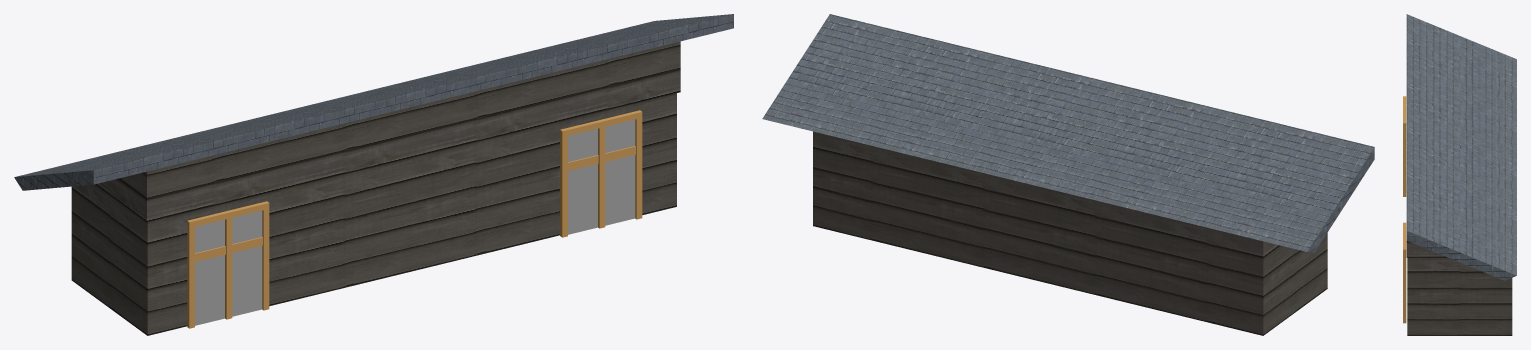
Rendered from Maintenance.glb.
3 views of the same model, side by side, from view 1: azimuth 30°, elevation 25°; view 2: azimuth 150°, elevation 25°; view 3: azimuth 270°, elevation 25° (orthographic). The views are drawn at different scales.
Visible parts, largest first — view 1: mergedBlocks(Clone); view 2: mergedBlocks(Clone); view 3: mergedBlocks(Clone).
Boxes of the visible parts, x1,y1,x2,y2 form: mergedBlocks(Clone): [14, 14, 733, 335]; mergedBlocks(Clone): [762, 14, 1374, 335]; mergedBlocks(Clone): [1403, 14, 1516, 335].
Bounding box in the file's own units: 4.88 × 1.31 × 1.08.
4 materials, 2 textured.
